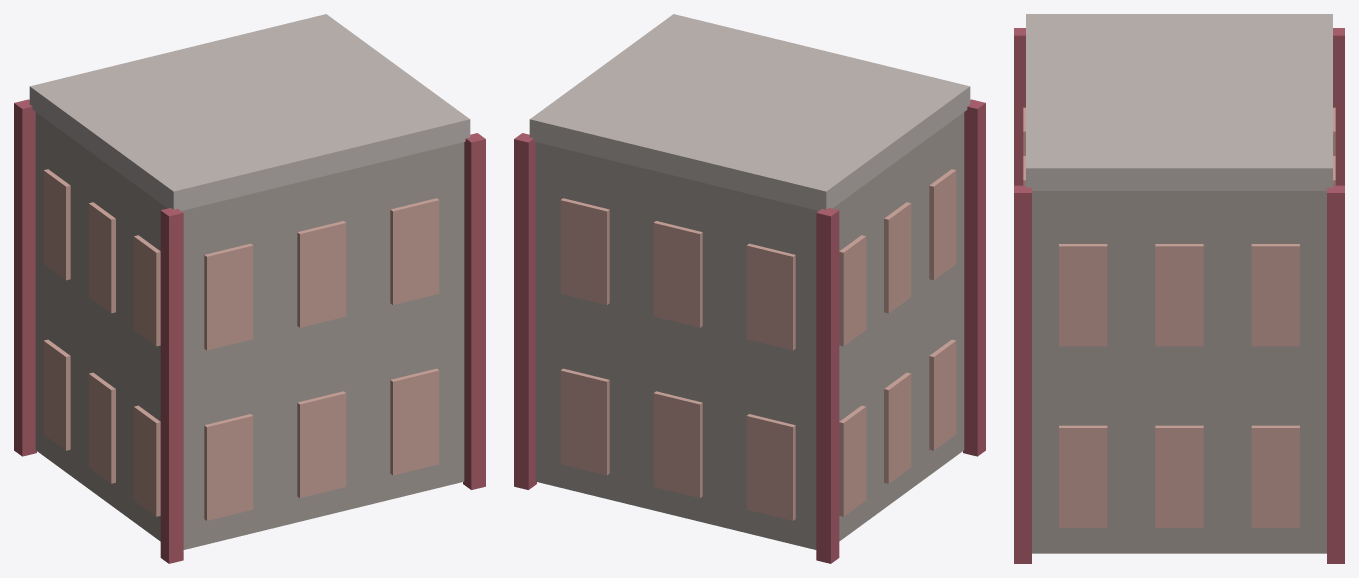
File: shop_a.glb
The picture shows the model from 3 angles, left to right: view 1: azimuth 30°, elevation 25°; view 2: azimuth 150°, elevation 25°; view 3: azimuth 270°, elevation 25°; orthographic projection. The views are drawn at different scales.
Bounding box in the file's own units: 5.45 × 6.01 × 4.62.
